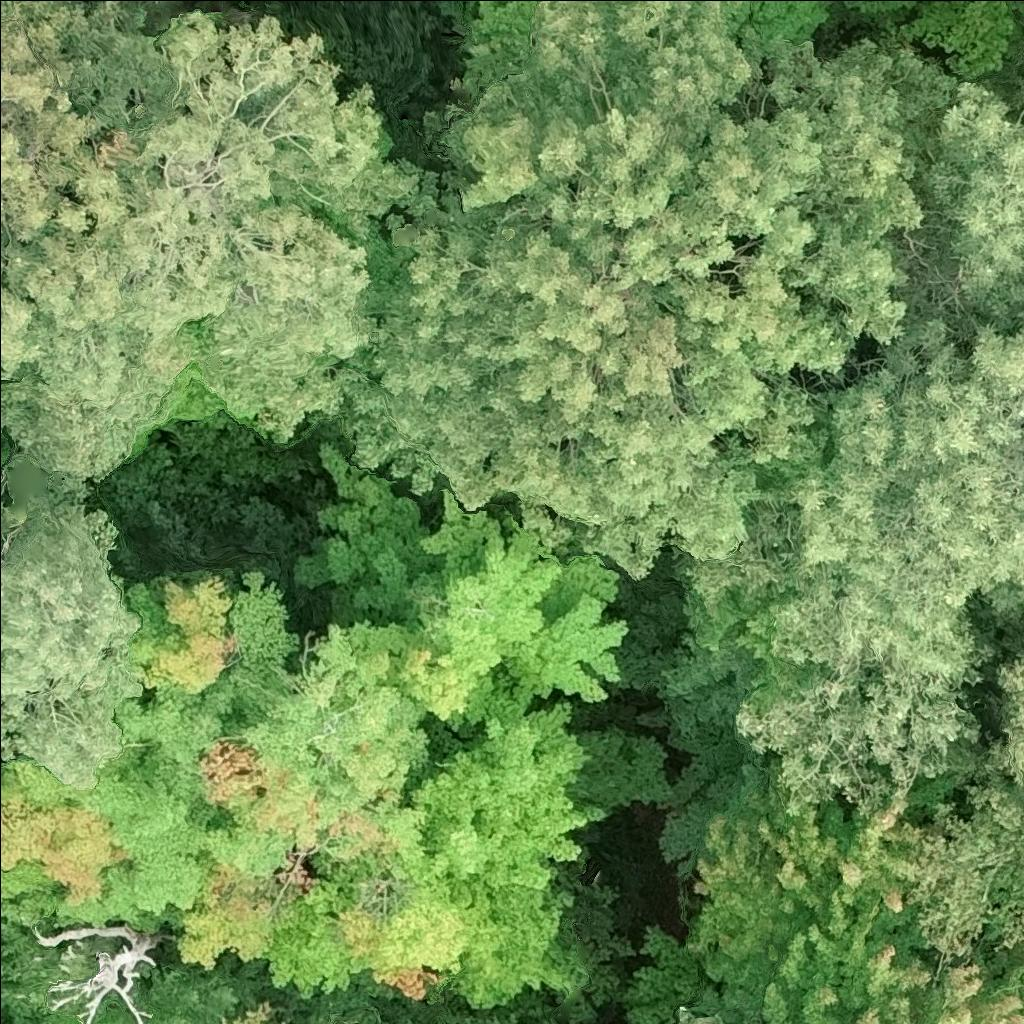crown: (332, 0, 958, 579), (696, 86, 1023, 809), (0, 14, 421, 482), (0, 572, 429, 969), (266, 704, 604, 1008), (298, 447, 629, 727), (0, 0, 174, 374), (695, 769, 960, 983), (0, 471, 154, 788), (764, 921, 1023, 1023), (908, 744, 1023, 953), (846, 0, 1011, 73), (0, 901, 93, 1023), (129, 964, 247, 1023), (738, 0, 832, 45), (994, 658, 1023, 782), (470, 0, 541, 50), (91, 997, 136, 1023), (225, 1006, 268, 1023), (676, 1010, 721, 1023), (0, 366, 18, 389), (1022, 69, 1023, 80)
